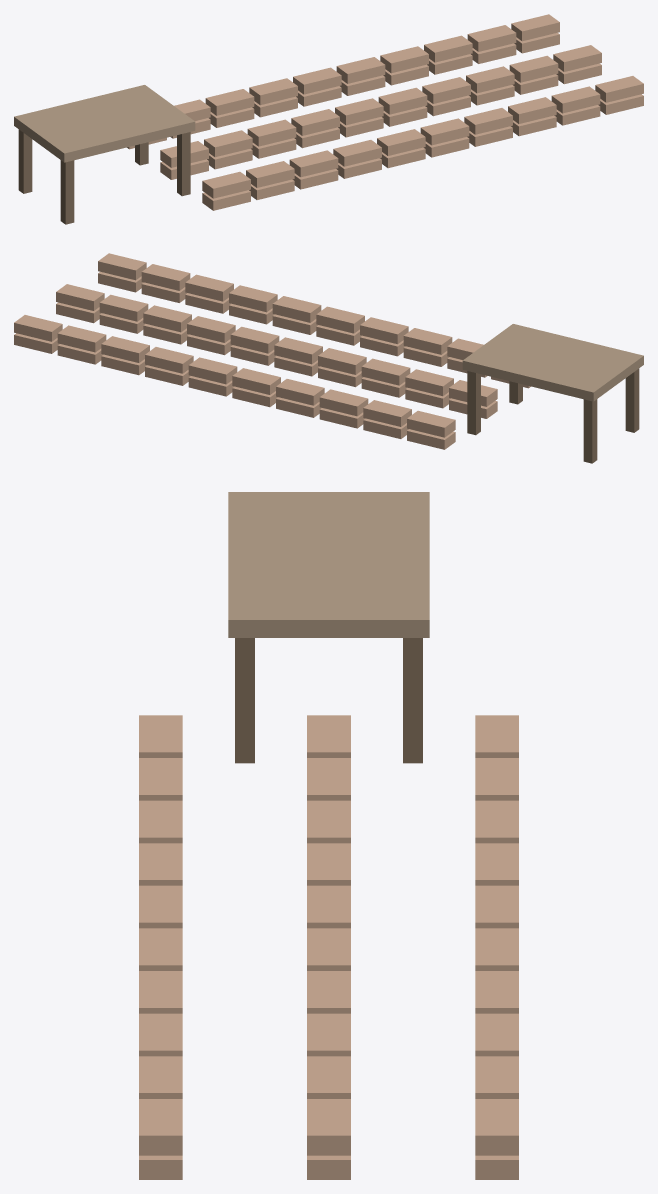
File: bricks.glb
3 renders of one model, top to bottom at view 1: azimuth 30°, elevation 25°; view 2: azimuth 150°, elevation 25°; view 3: azimuth 270°, elevation 25°, orthographic. The views are drawn at different scales.
Visible parts, largest first — view 1: bricks, bricks_mould, bricks_legs; view 2: bricks, bricks_mould, bricks_legs; view 3: bricks, bricks_mould, bricks_legs.
Part boxes in pixels (x1=…): bricks: x1=127, y1=14, x2=643, y2=210; bricks_mould: x1=14, y1=85, x2=195, y2=162; bricks_legs: x1=18, y1=129, x2=190, y2=224; bricks: x1=14, y1=253, x2=530, y2=449; bricks_mould: x1=462, y1=324, x2=643, y2=401; bricks_legs: x1=467, y1=368, x2=639, y2=463; bricks: x1=139, y1=715, x2=518, y2=1179; bricks_mould: x1=228, y1=492, x2=429, y2=637; bricks_legs: x1=235, y1=638, x2=422, y2=763.
Size of the model in its own units: 3.83 by 0.48 by 1.13.
